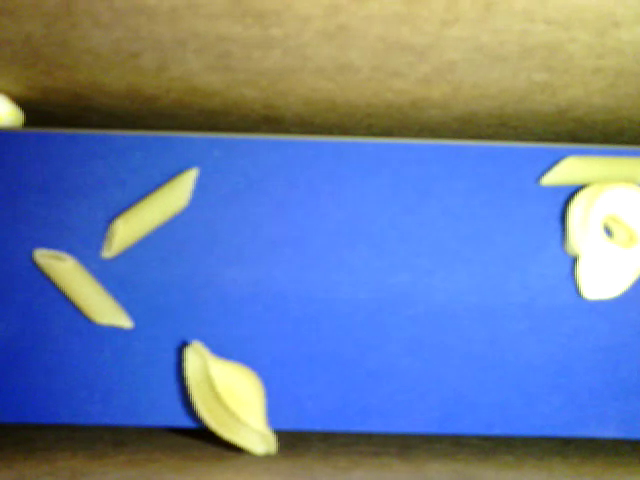penne: (99, 166, 199, 259), (33, 248, 134, 328), (538, 156, 639, 186)
shell: (183, 339, 279, 456)
tortellini: (564, 182, 639, 302)
